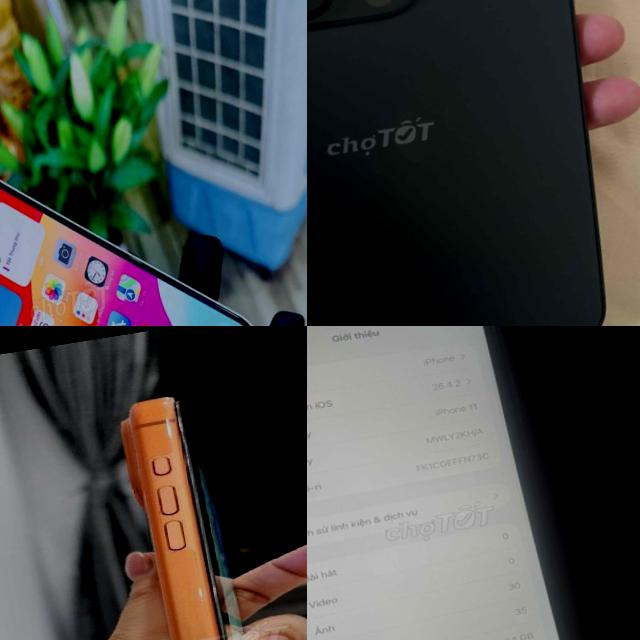physical_damage: (158, 392, 180, 412)
scratch: (185, 576, 218, 610)
